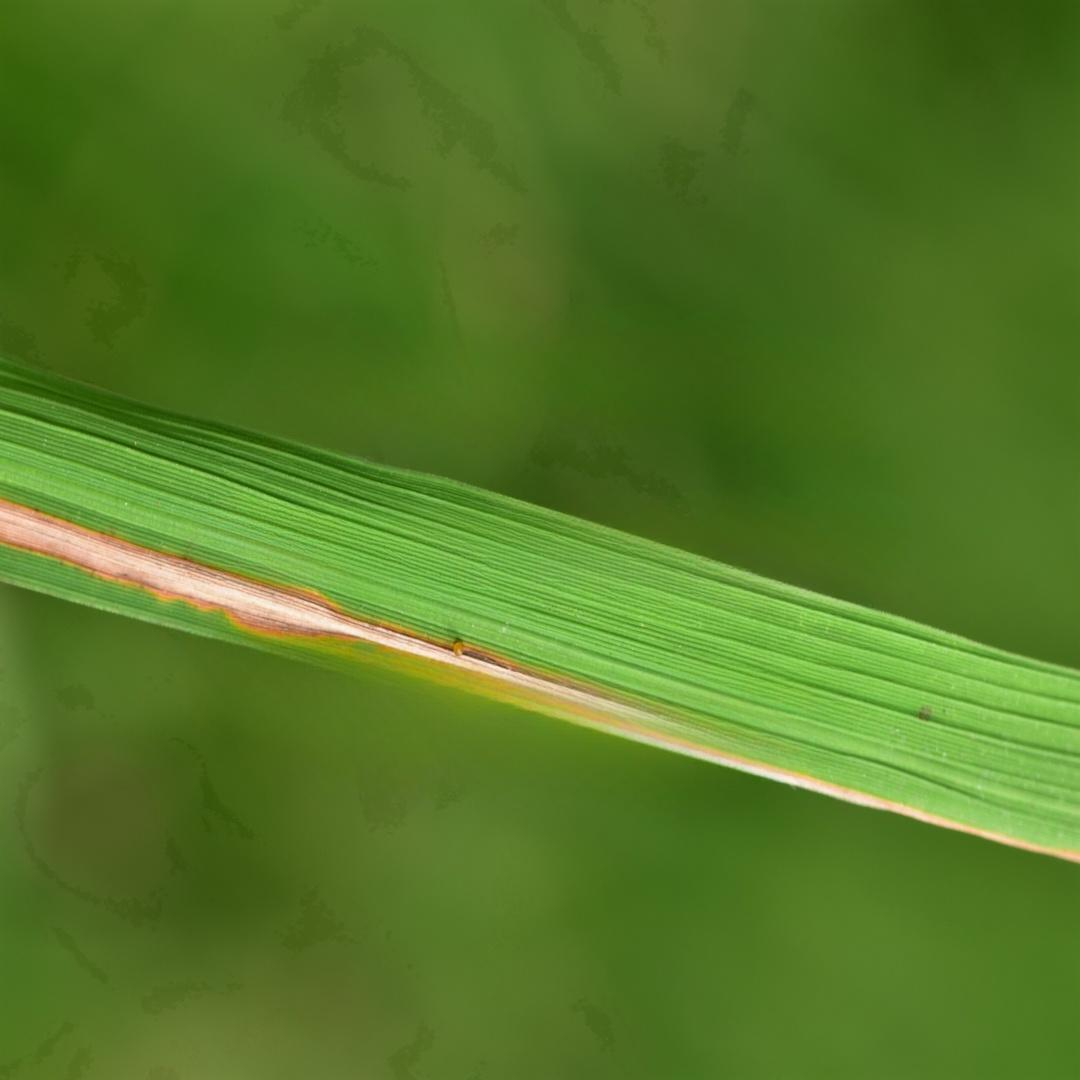BLB: (2, 496, 1077, 859)
LEAF: (0, 357, 1079, 860)
